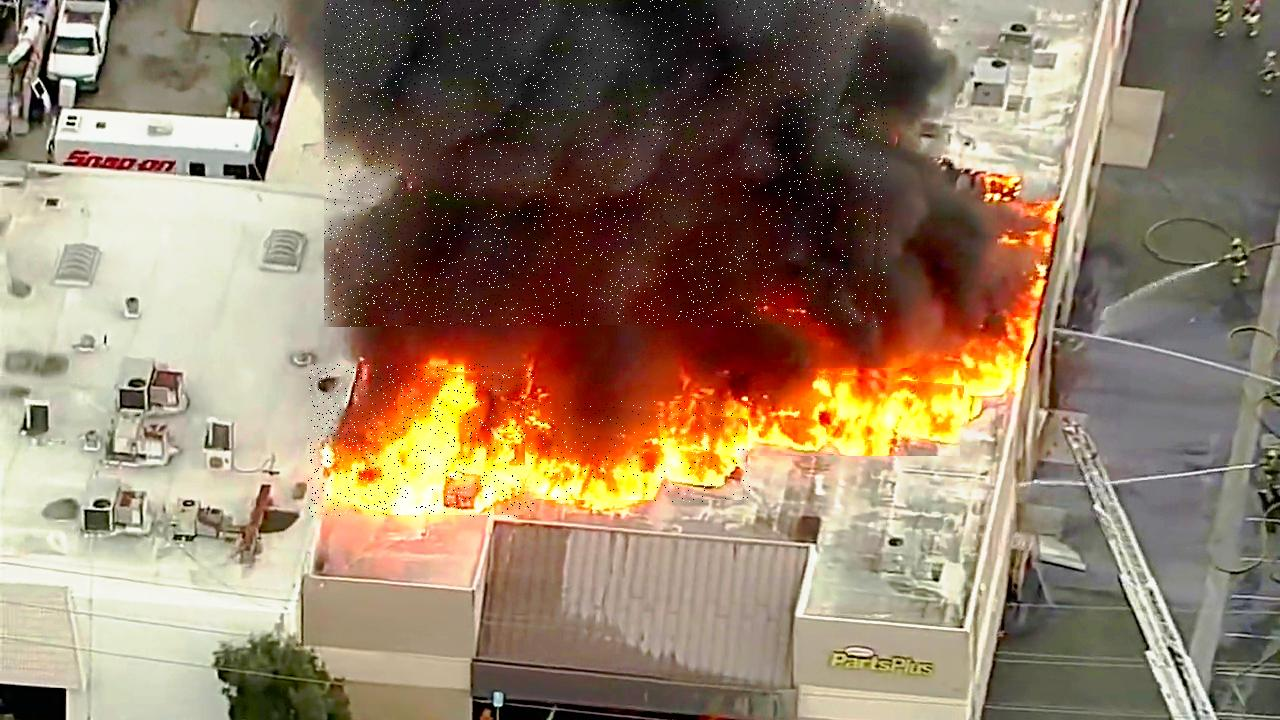fire: (307, 365, 534, 518), (525, 402, 750, 503), (749, 369, 967, 459)
smoke: (325, 0, 889, 327)
